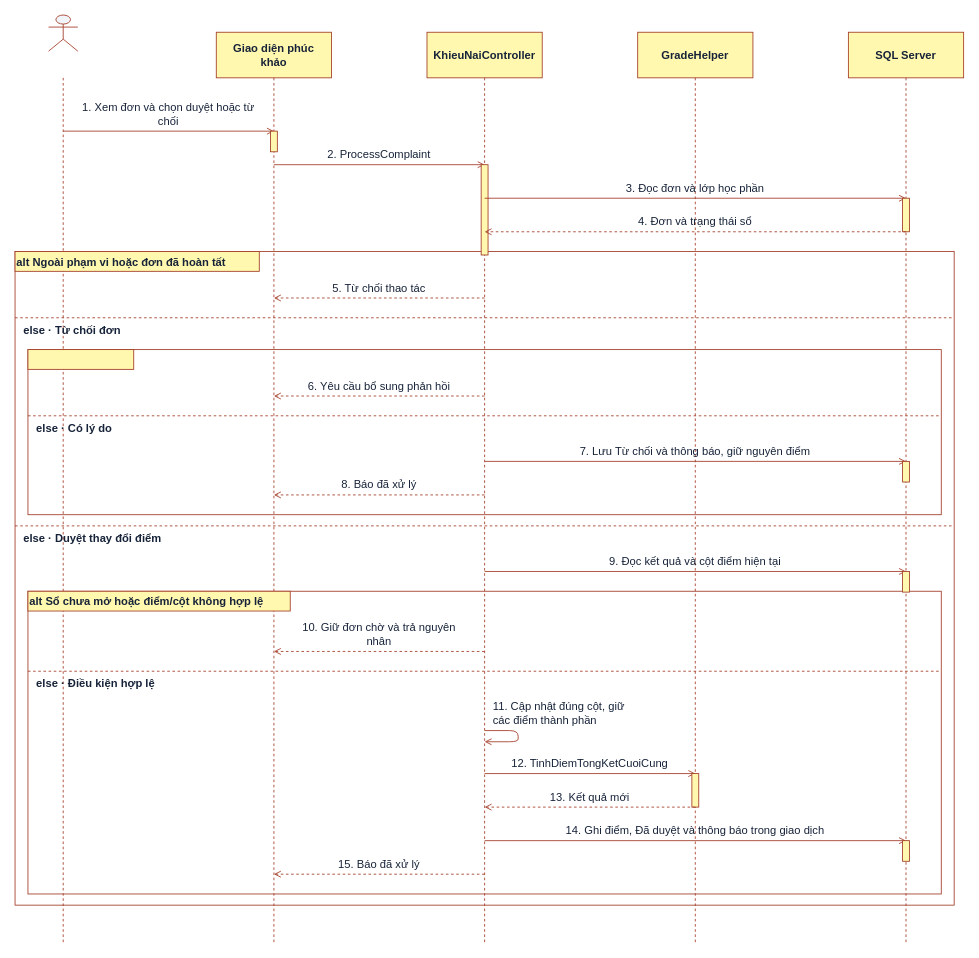
This 979x958 diagram has some shape labels left out. The centre of each missing label's shape, as x and y in pixels:
"alt Thiếu lý do" belongs at [80,359].
"Người xử lý" belongs at [63,32].
